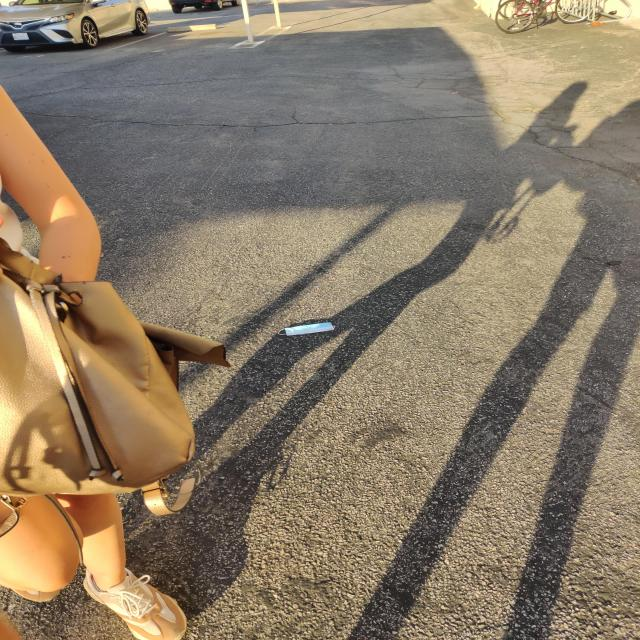litter: (273, 321, 341, 338)
